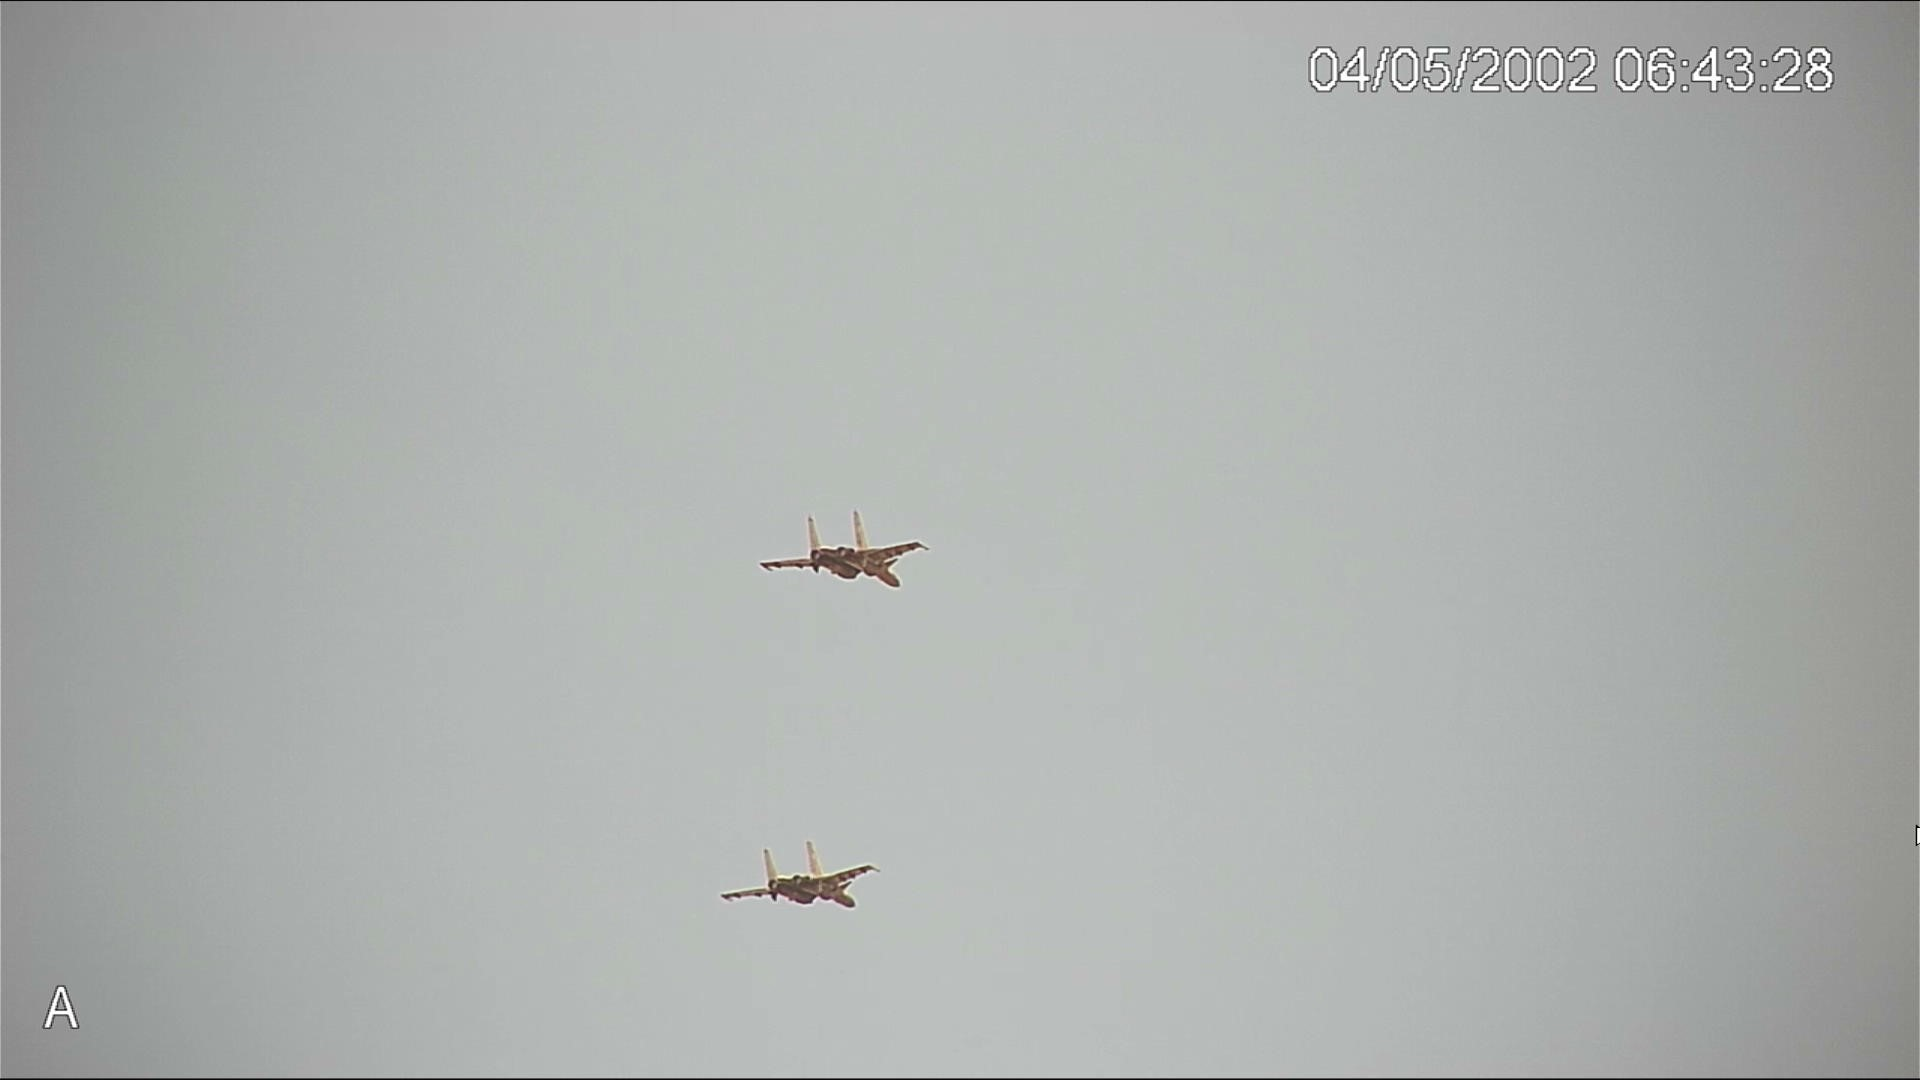SU_30: (746, 506, 922, 599), (721, 836, 872, 916)
